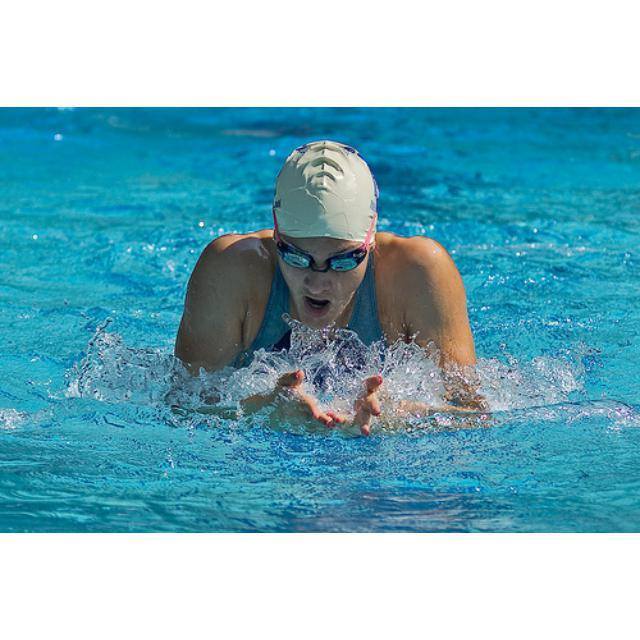human: (164, 140, 495, 447)
